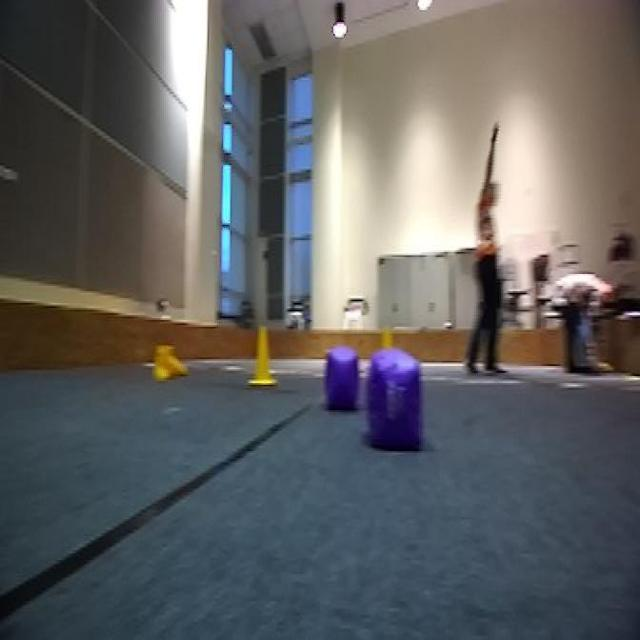frc_cone: (246, 327, 278, 386), (150, 341, 190, 382)
frc_cube: (370, 356, 422, 444), (326, 351, 360, 412)
